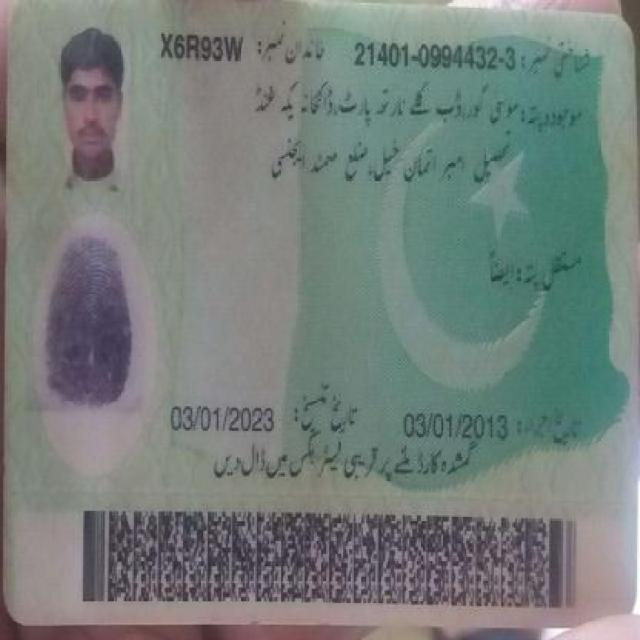Back: (20, 6, 625, 632)
